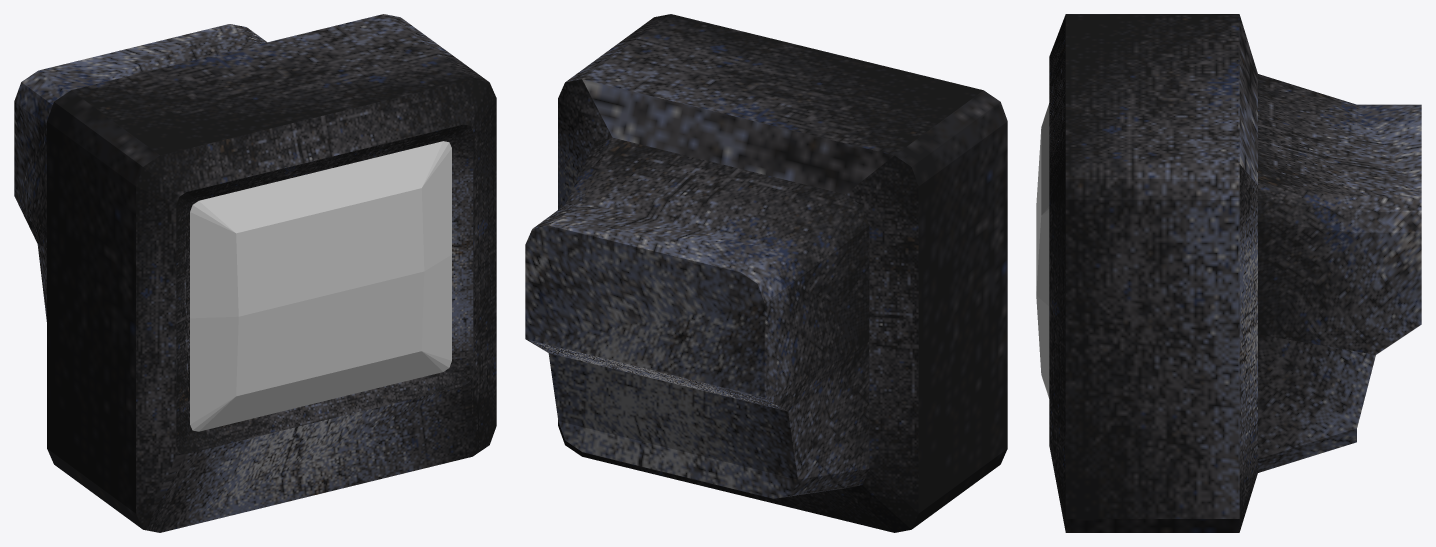
3 renders of one model, left to right at view 1: azimuth 30°, elevation 25°; view 2: azimuth 150°, elevation 25°; view 3: azimuth 270°, elevation 25°, orthographic. The views are drawn at different scales.
Visible parts, largest first — view 1: TV crt; view 2: TV crt; view 3: TV crt.
Boxes of the visible parts, x1,y1,x2,y2 form: TV crt: (14,14,496,532); TV crt: (525,14,1007,532); TV crt: (1036,14,1421,532).
Bounding box in the file's own units: 464 × 464 × 440.
